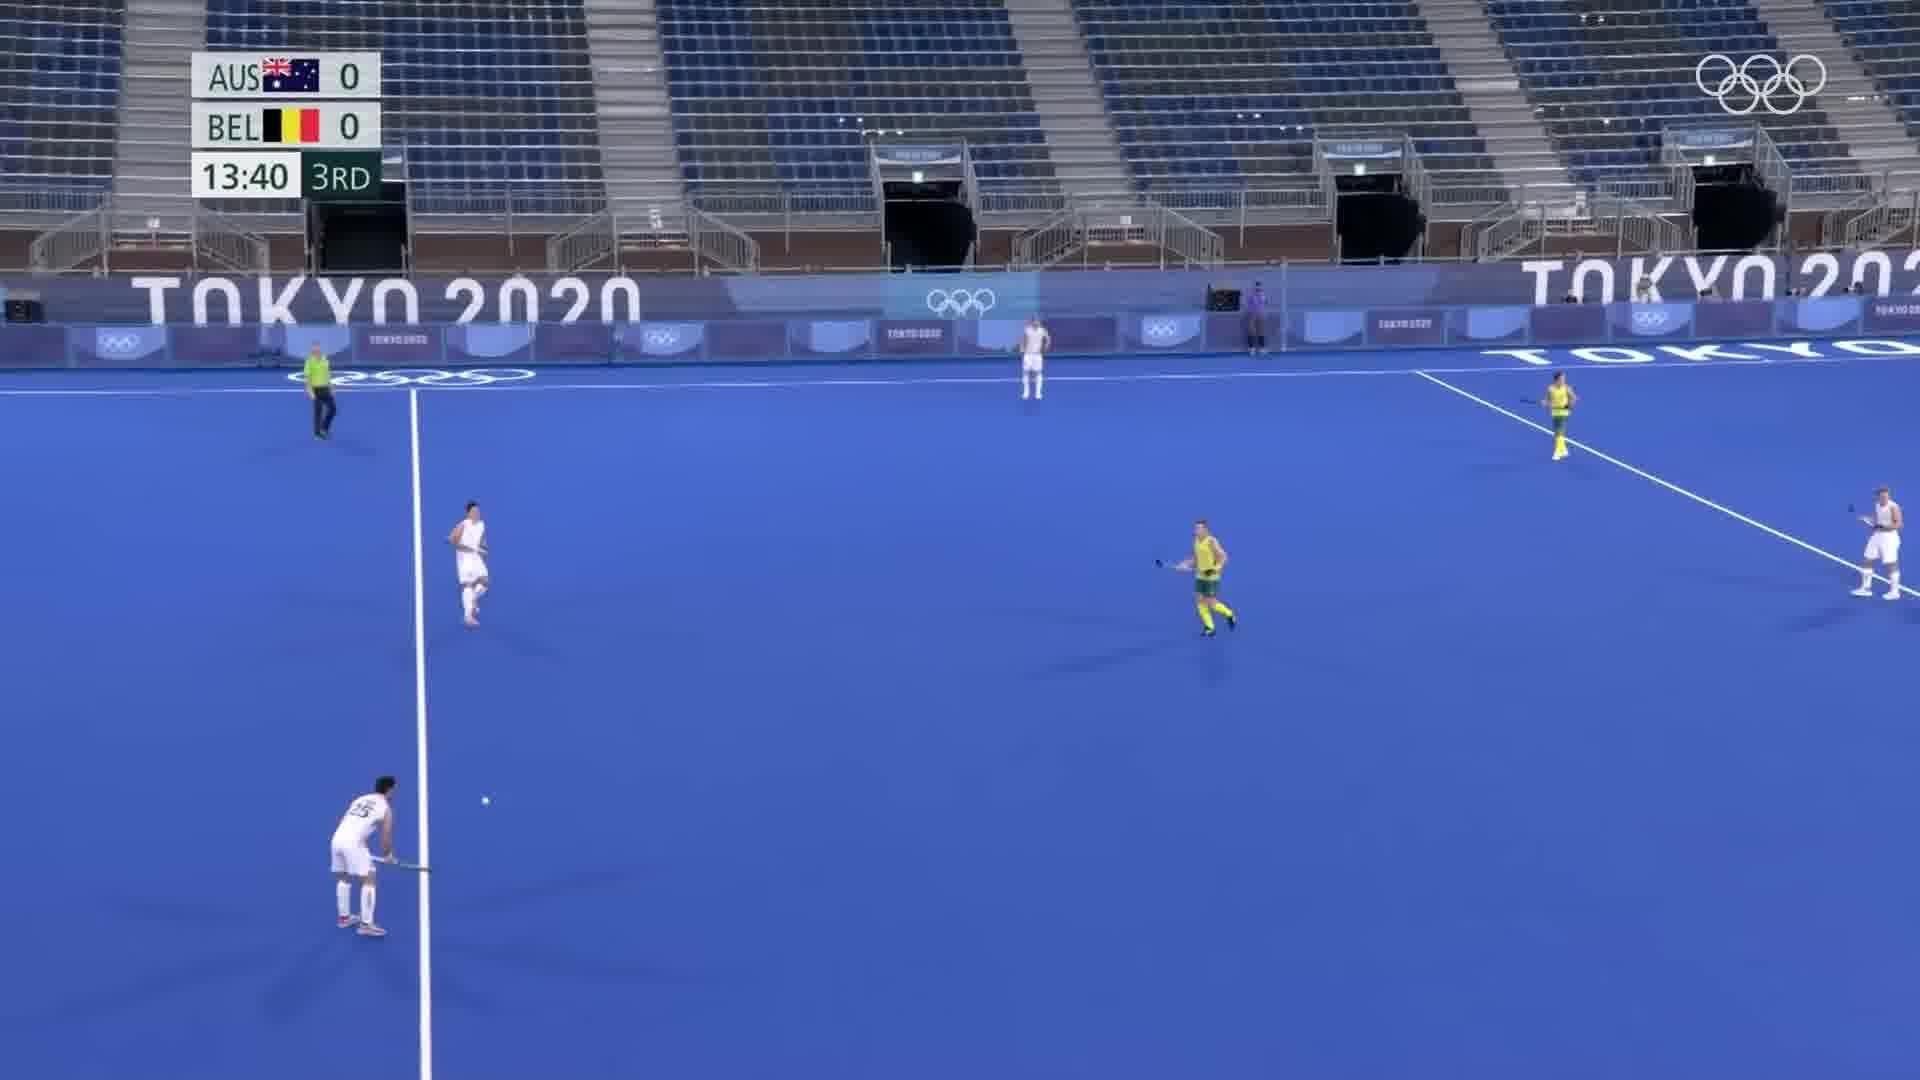ball: (476, 787, 496, 809)
